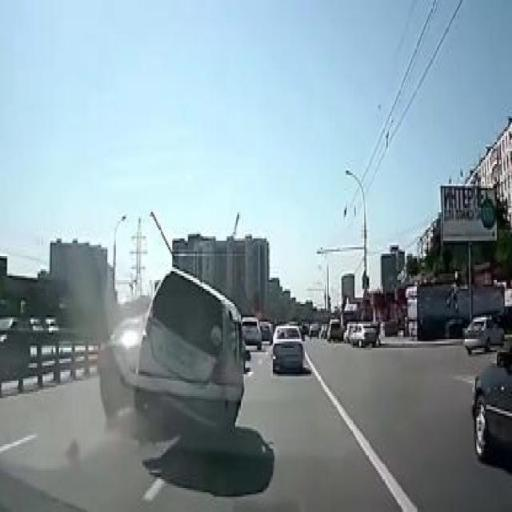小汽车: (268, 320, 306, 380)
小汽车撞小汽车: (108, 266, 249, 444)
